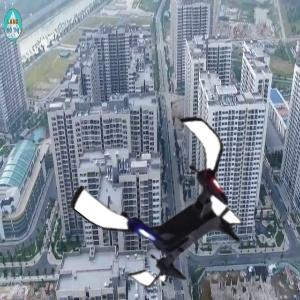drone: (83, 113, 261, 291)
